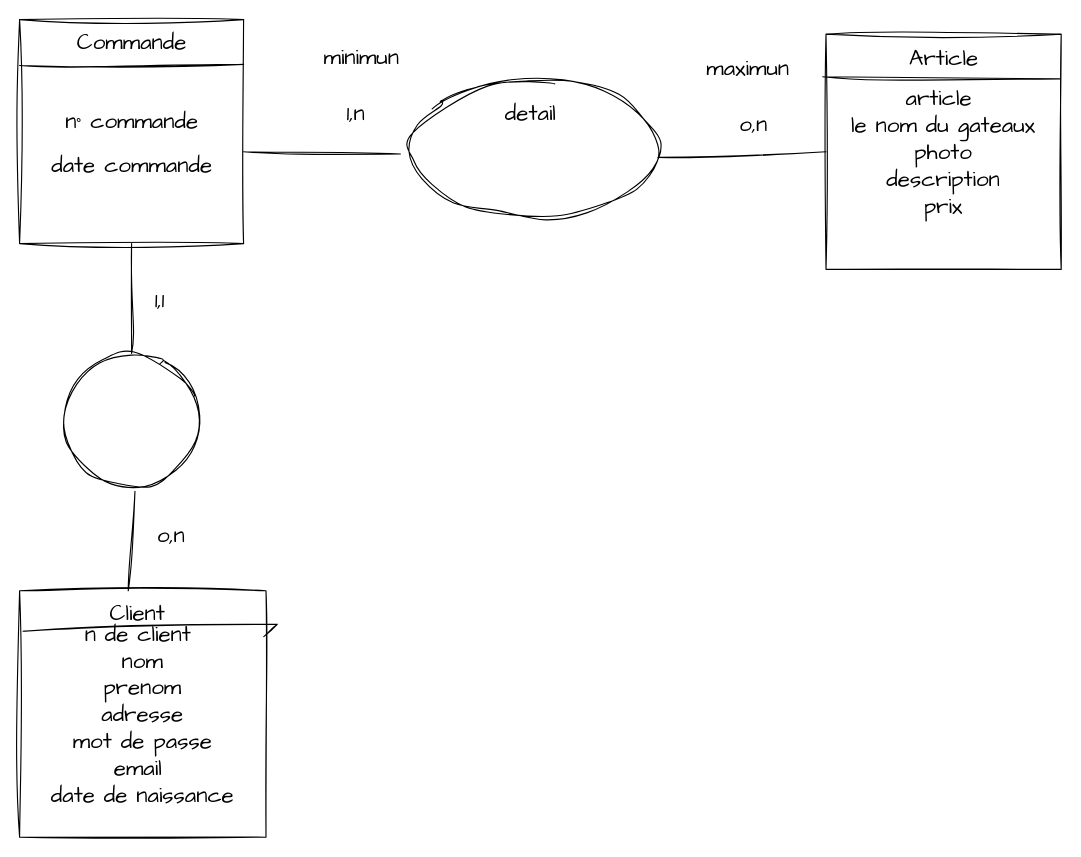
Image size: 1081x857. Some labels were removed from this diagram. Each missing label, with the box of its shape:
ligne de commande date_de commande: (410, 78, 658, 217)
Passer commande: (63, 352, 199, 488)
